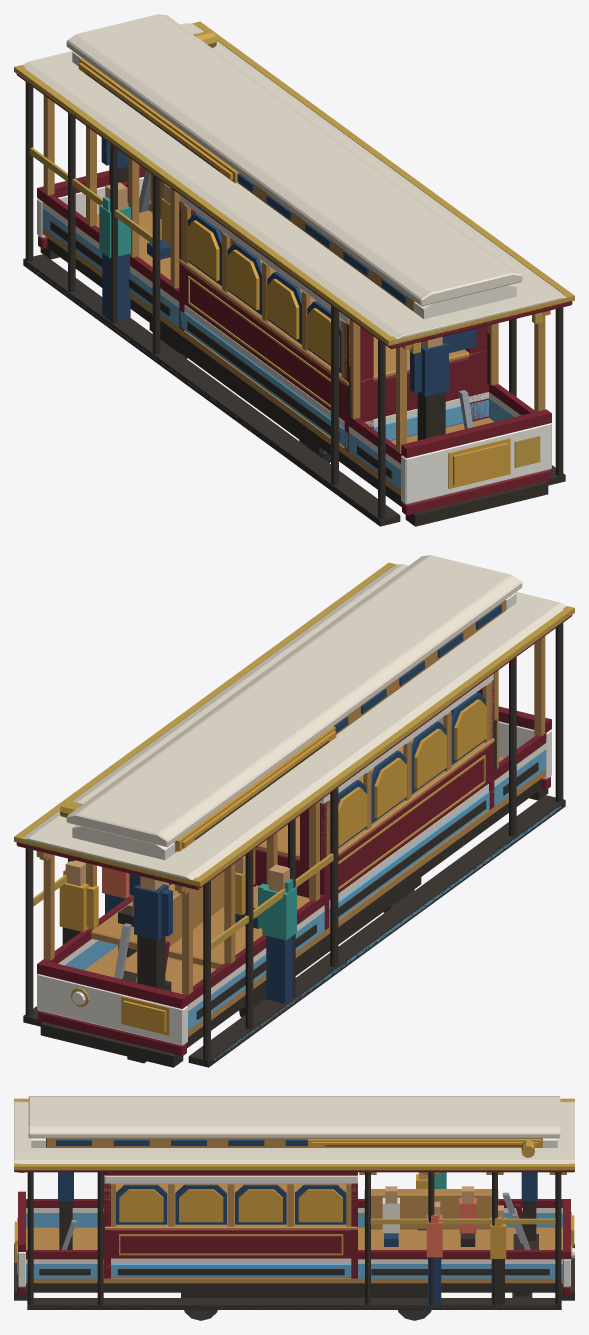
Rendered from cable-car-powell.glb.
The picture shows the model from 3 angles, top to bottom: view 1: azimuth 30°, elevation 25°; view 2: azimuth 150°, elevation 25°; view 3: azimuth 270°, elevation 25°; orthographic projection. The views are drawn at different scales.
Parts seen in each view (by area): view 1: grp_Toy_sand, grp_Toy_ink, grp_Toy_maroon, grp_Toy_oak, grp_Toy_gold, grp_Toy_mustard_Glow, grp_Toy_sky, grp_Toy_cream, grp_Toy_white, grp_Toy_p_navy, grp_Toy_glass, grp_Toy_mustard (+2 smaller); view 2: grp_Toy_sand, grp_Toy_ink, grp_Toy_oak, grp_Toy_maroon, grp_Toy_gold, grp_Toy_mustard_Glow, grp_Toy_sky, grp_Toy_white, grp_Toy_cream, grp_Toy_p_navy, grp_Toy_glass, grp_Toy_p_mustard (+4 smaller); view 3: grp_Toy_sand, grp_Toy_ink, grp_Toy_oak, grp_Toy_maroon, grp_Toy_mustard_Glow, grp_Toy_gold, grp_Toy_sky, grp_Toy_cream, grp_Toy_glass, grp_Toy_p_navy, grp_Toy_p_coral, grp_Toy_mustard (+6 smaller).
Boxes of the visible parts, left/top/right/bottom form: grp_Toy_sand: left=22, top=14, right=566, bottom=342; grp_Toy_ink: left=23, top=72, right=565, bottom=526; grp_Toy_maroon: left=16, top=74, right=572, bottom=515; grp_Toy_oak: left=42, top=95, right=550, bottom=495; grp_Toy_gold: left=14, top=21, right=574, bottom=467; grp_Toy_mustard_Glow: left=78, top=62, right=508, bottom=485; grp_Toy_sky: left=29, top=208, right=513, bottom=493; grp_Toy_cream: left=42, top=51, right=520, bottom=469; grp_Toy_white: left=37, top=177, right=551, bottom=504; grp_Toy_p_navy: left=101, top=137, right=476, bottom=396; grp_Toy_glass: left=187, top=173, right=407, bottom=373; grp_Toy_mustard: left=79, top=58, right=510, bottom=488; grp_Toy_sand: left=17, top=555, right=566, bottom=882; grp_Toy_ink: left=23, top=622, right=565, bottom=1067; grp_Toy_oak: left=36, top=600, right=546, bottom=1036; grp_Toy_maroon: left=16, top=615, right=572, bottom=1056; grp_Toy_gold: left=14, top=562, right=574, bottom=1007; grp_Toy_mustard_Glow: left=123, top=699, right=486, bottom=1032; grp_Toy_sky: left=65, top=749, right=561, bottom=1059; grp_Toy_white: left=37, top=717, right=551, bottom=1045; grp_Toy_cream: left=58, top=592, right=546, bottom=1010; grp_Toy_p_navy: left=105, top=709, right=453, bottom=1003; grp_Toy_glass: left=334, top=604, right=501, bottom=848; grp_Toy_p_mustard: left=59, top=869, right=245, bottom=931; grp_Toy_sand: left=14, top=1096, right=574, bottom=1163; grp_Toy_ink: left=14, top=1145, right=574, bottom=1309; grp_Toy_oak: left=26, top=1138, right=566, bottom=1283; grp_Toy_maroon: left=14, top=1170, right=574, bottom=1294; grp_Toy_mustard_Glow: left=14, top=1142, right=574, bottom=1262; grp_Toy_gold: left=14, top=1098, right=574, bottom=1273; grp_Toy_sky: left=26, top=1213, right=562, bottom=1308; grp_Toy_cream: left=26, top=1138, right=562, bottom=1263; grp_Toy_glass: left=56, top=1140, right=346, bottom=1224; grp_Toy_p_navy: left=58, top=1172, right=537, bottom=1304; grp_Toy_p_coral: left=426, top=1197, right=476, bottom=1257; grp_Toy_mustard: left=17, top=1139, right=571, bottom=1245.
Bounding box in the file's own units: 2.42 × 3.18 × 8.4.
